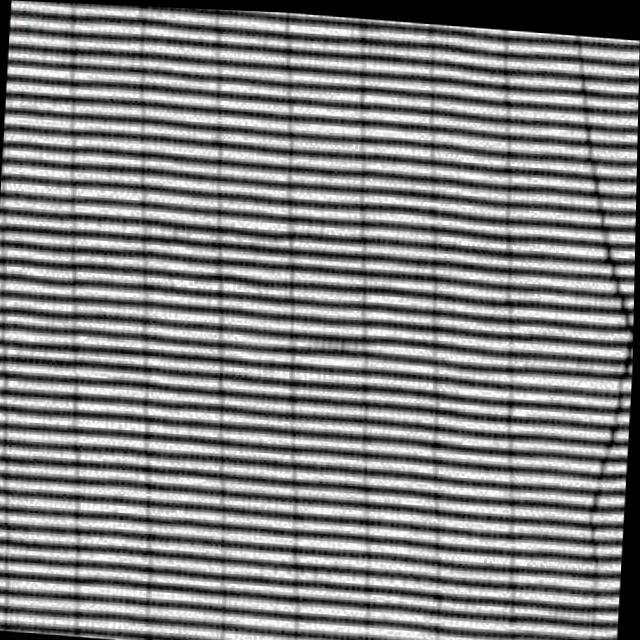Stitch: (535, 53, 639, 523)
